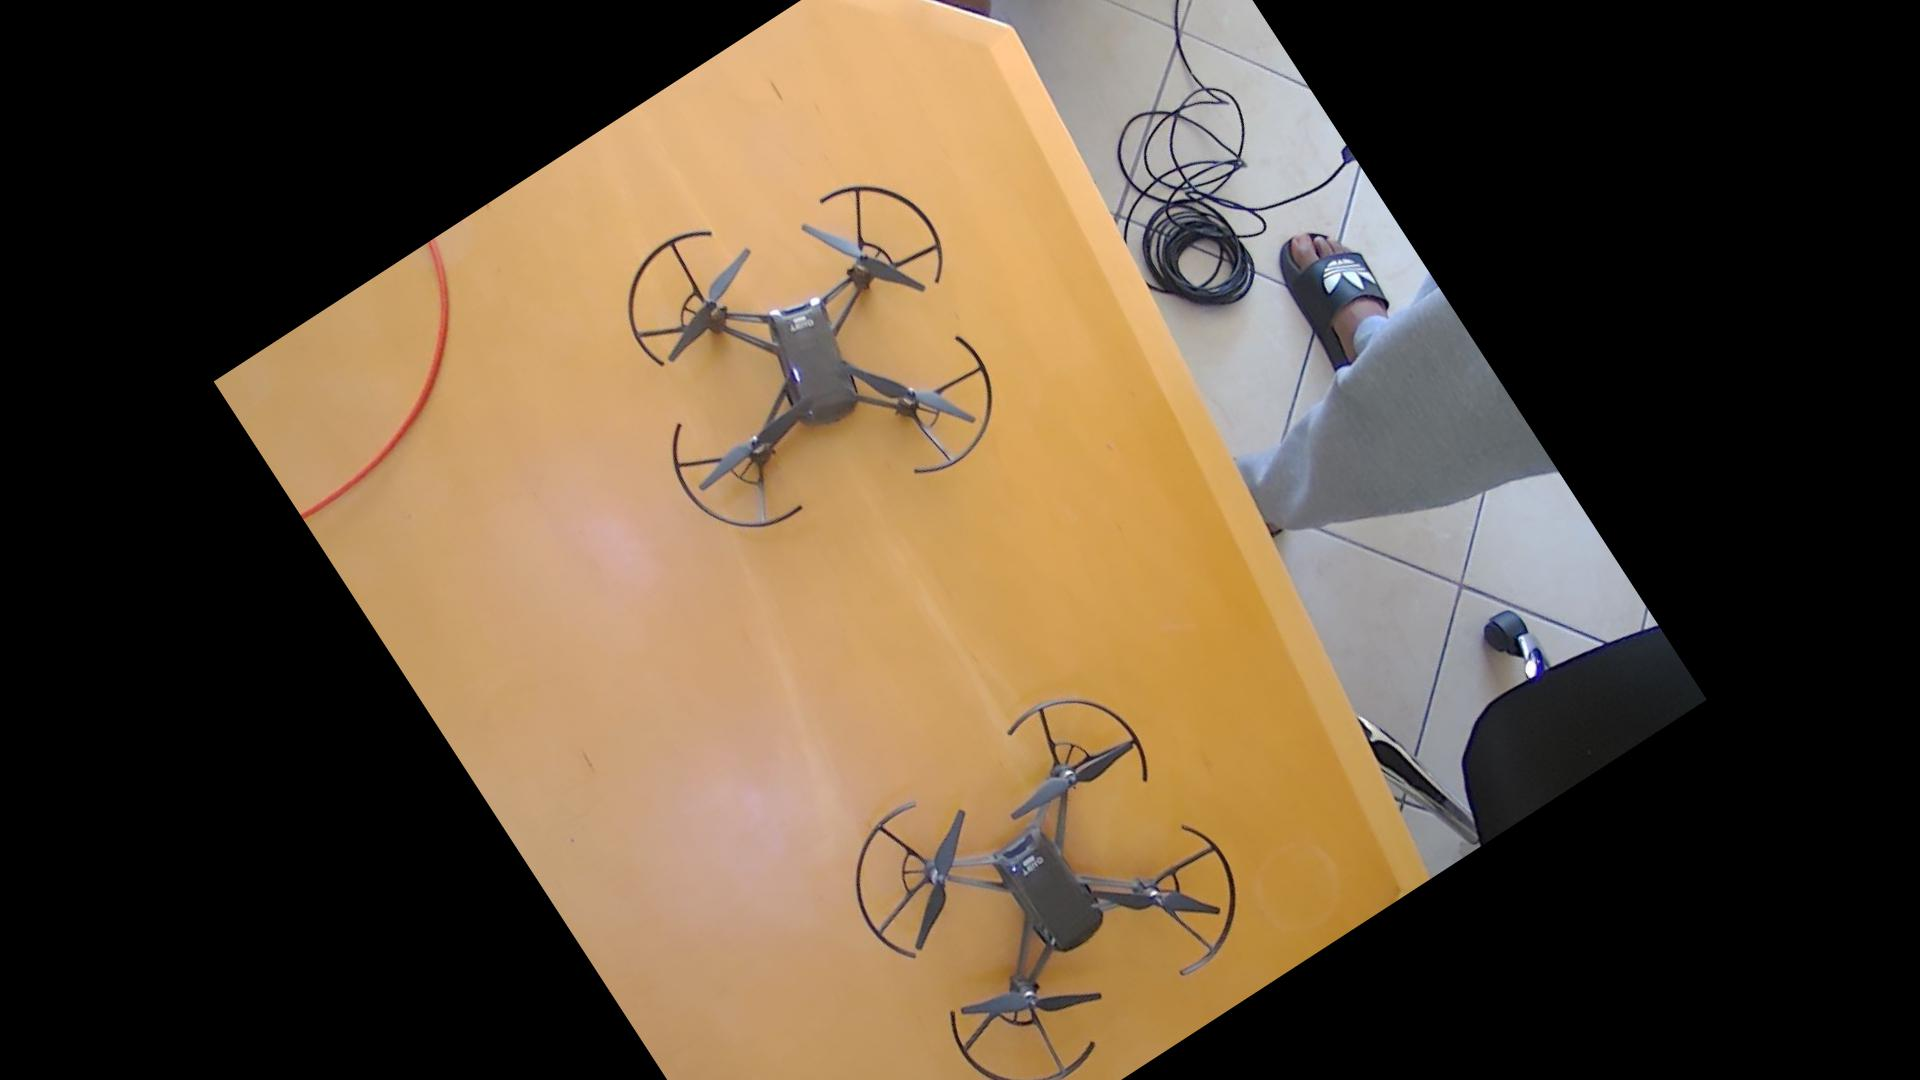dji-tello-edu-drone: (537, 84, 1093, 636), (785, 632, 1319, 1079)
